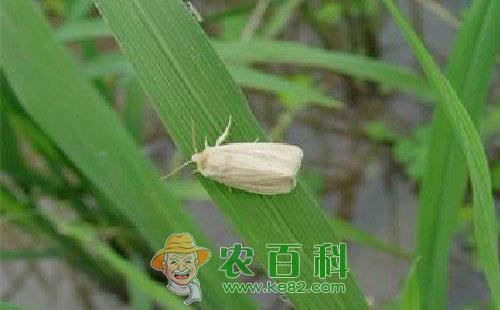Noctuidae: (161, 114, 306, 195)
